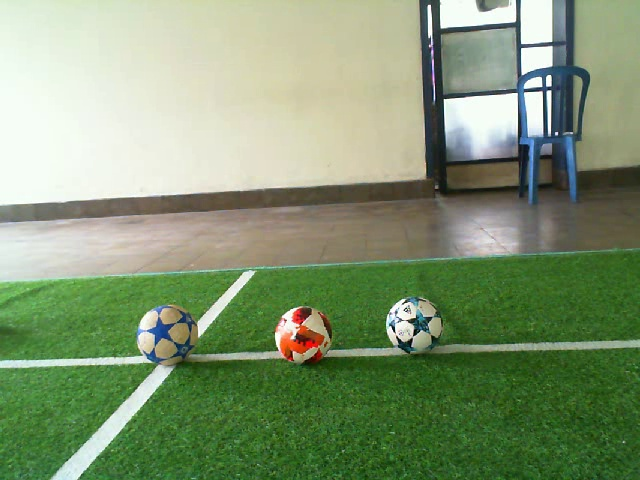ball: (135, 302, 200, 368), (272, 304, 334, 368), (384, 295, 445, 358)
